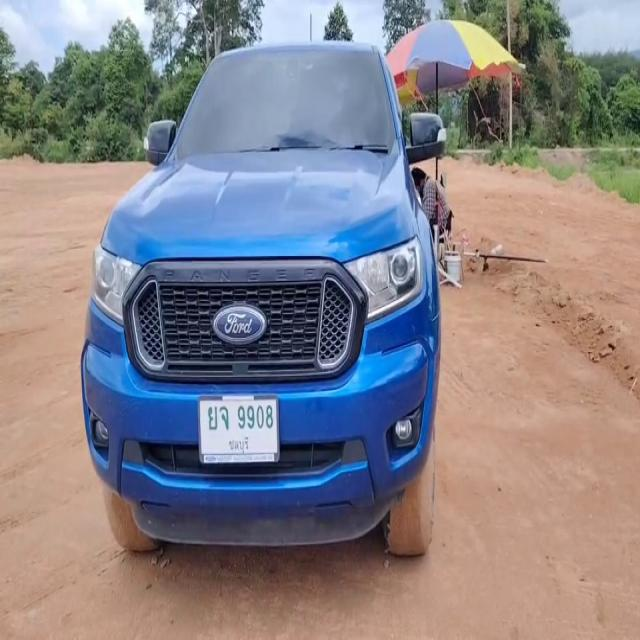Digit: (236, 401, 274, 430)
Licenseplate: (198, 394, 280, 464)
Provincename: (227, 434, 250, 454)
Thaichar: (208, 402, 230, 434)
